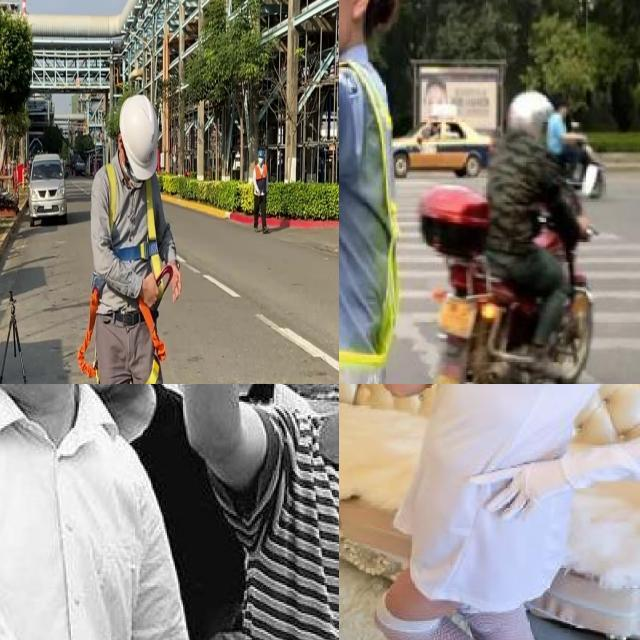Harness: (106, 163, 163, 278), (137, 298, 167, 384), (77, 285, 101, 384)
hand_glove: (471, 461, 572, 518)
person: (368, 384, 640, 640), (0, 384, 188, 640), (339, 0, 424, 384), (228, 384, 339, 640)
vest: (339, 54, 407, 384)
